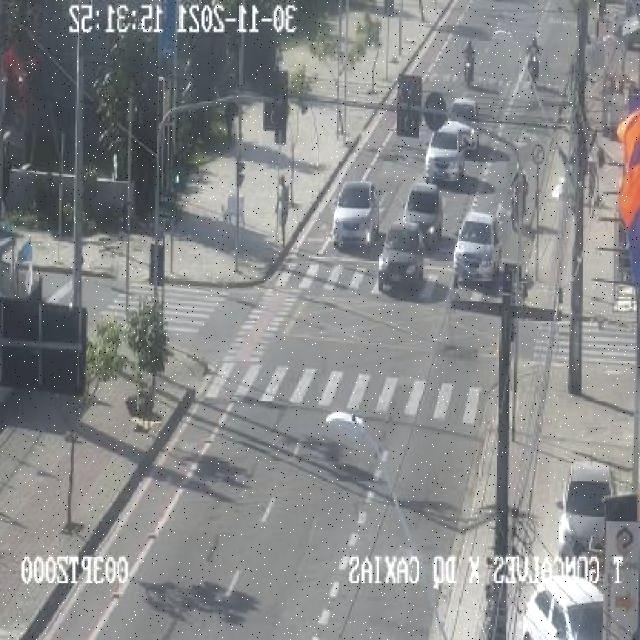Car: (520, 571, 610, 640), (558, 457, 620, 557), (452, 209, 503, 285), (332, 178, 380, 257), (375, 227, 419, 296), (399, 184, 448, 244), (444, 95, 482, 152), (427, 128, 464, 182)
Cycle: (512, 163, 535, 223), (520, 31, 547, 81), (454, 41, 479, 82)
